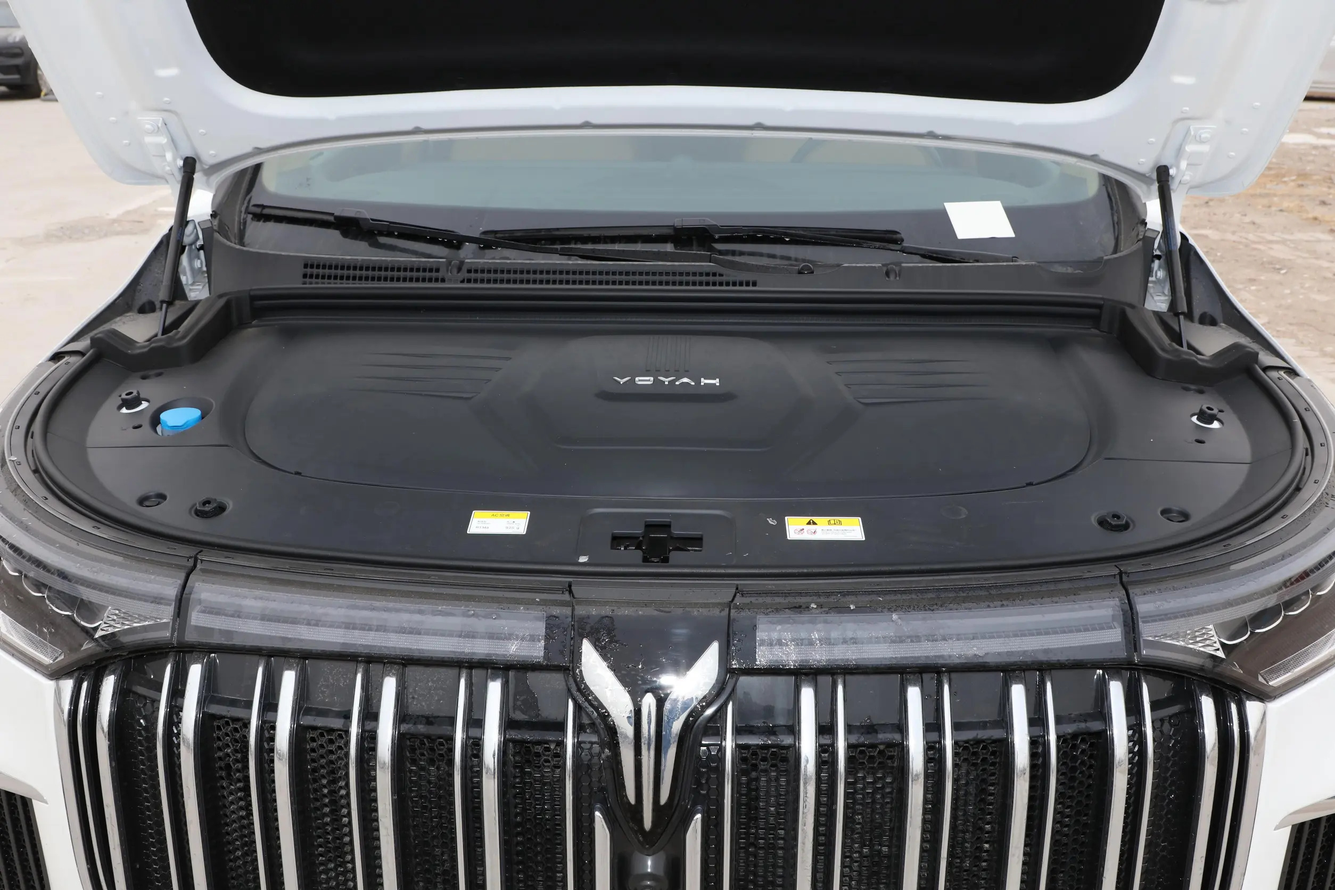VOYAH: (581, 638, 718, 831)
